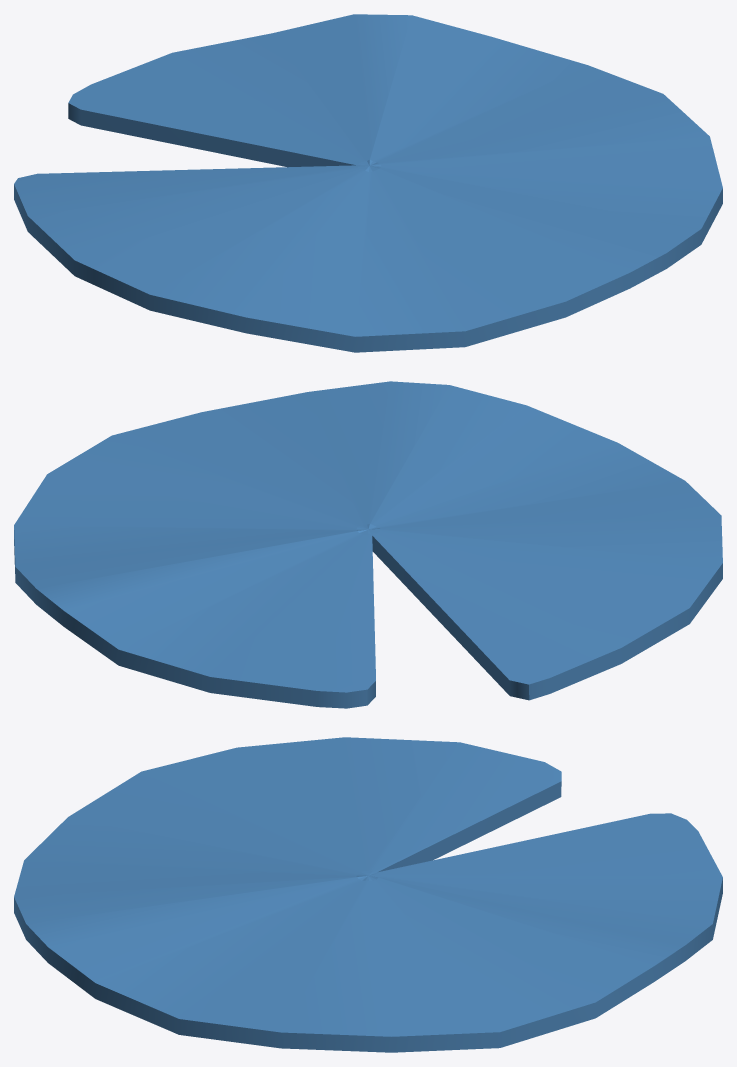
Rendered from LilyPad_Dark (2).fbx.
The picture shows the model from 3 angles, top to bottom: view 1: azimuth 30°, elevation 25°; view 2: azimuth 150°, elevation 25°; view 3: azimuth 270°, elevation 25°; orthographic projection.
Parts seen in each view (by area): view 1: LilyPad_Dark (2); view 2: LilyPad_Dark (2); view 3: LilyPad_Dark (2).
Boxes of the visible parts, x1,y1,x2,y2 form: LilyPad_Dark (2): [14, 14, 722, 352]; LilyPad_Dark (2): [14, 381, 722, 708]; LilyPad_Dark (2): [14, 737, 722, 1052].
Bounding box in the file's own units: 0.4643 × 0.0278 × 0.4643.
